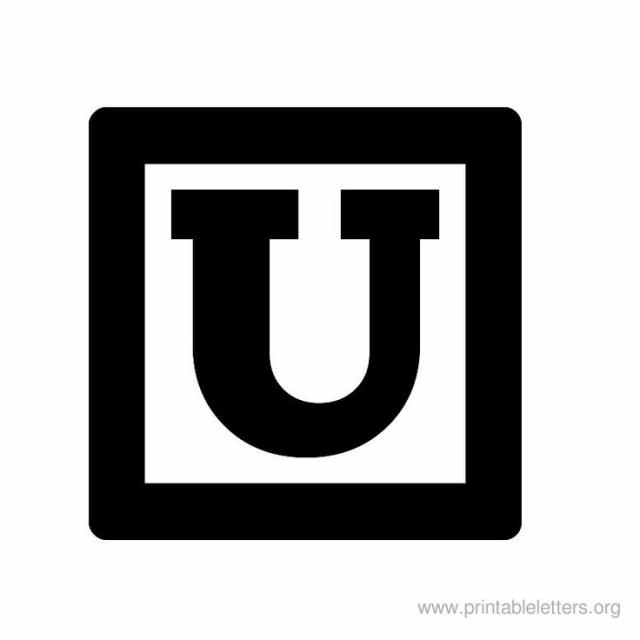U: (162, 166, 456, 470)
